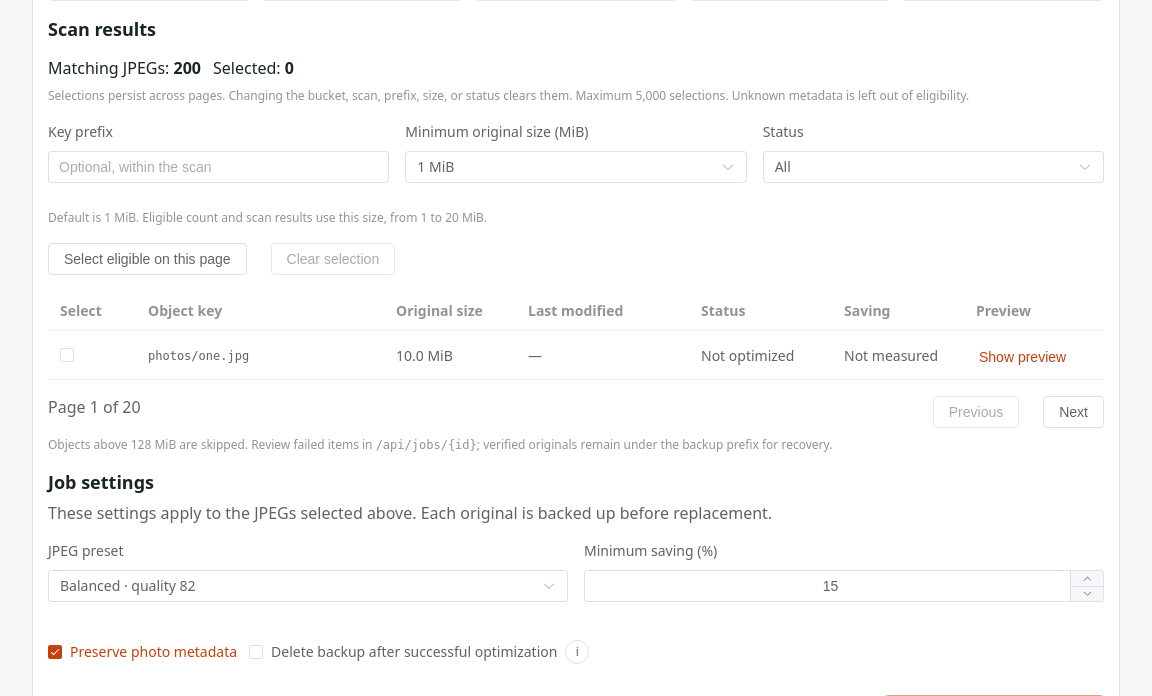
selection persists across pages and clears when filters change
(page scrolled)
Click the checkbox named "Select photos/one.jpg" at [67, 355], box [60,348,74,362]
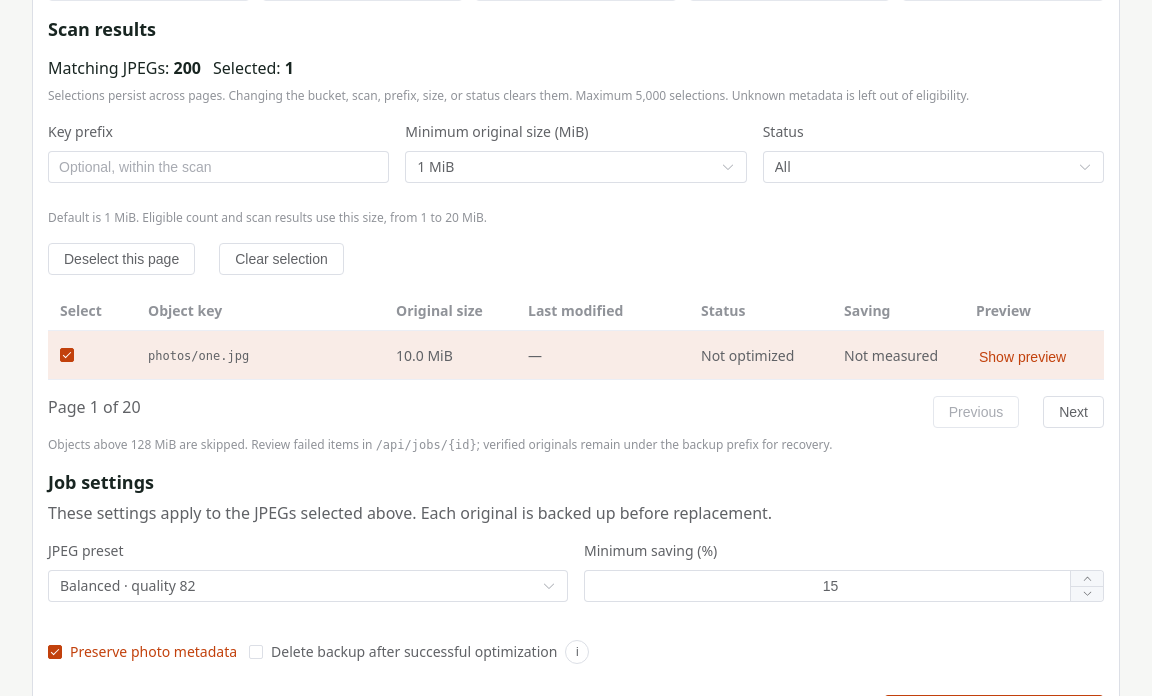
Click the button "Next" at [1074, 412], box [1043,396,1104,428]
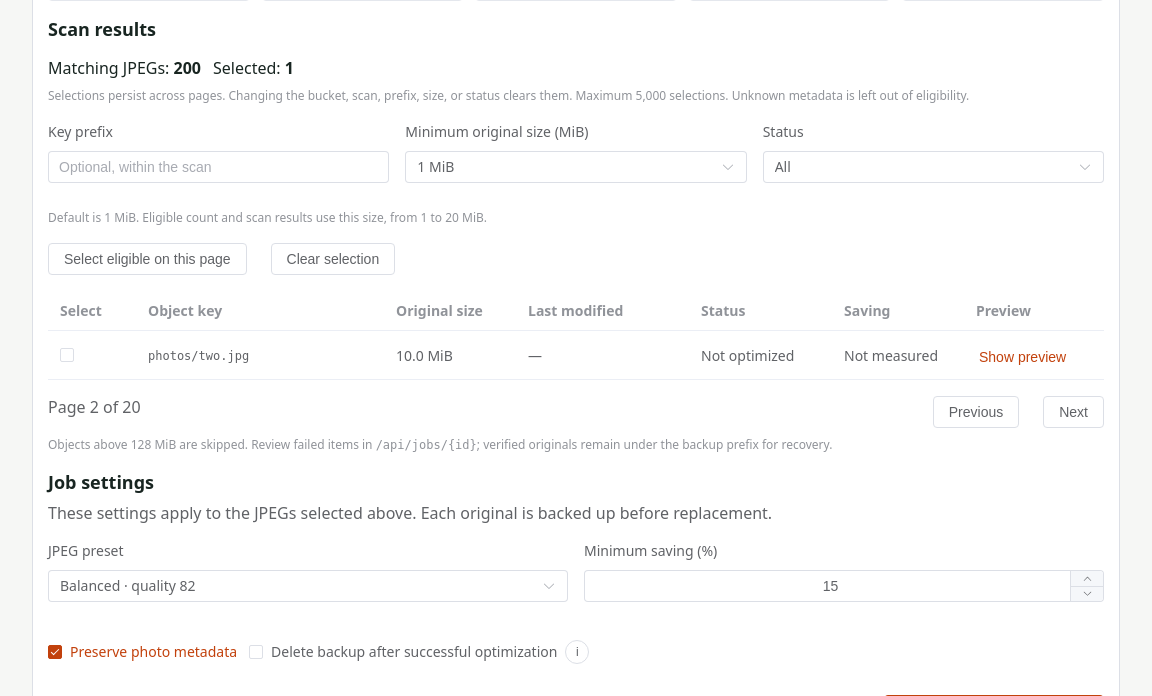
Click the checkbox named "Select photos/two.jpg" at [67, 355], box [60,348,74,362]
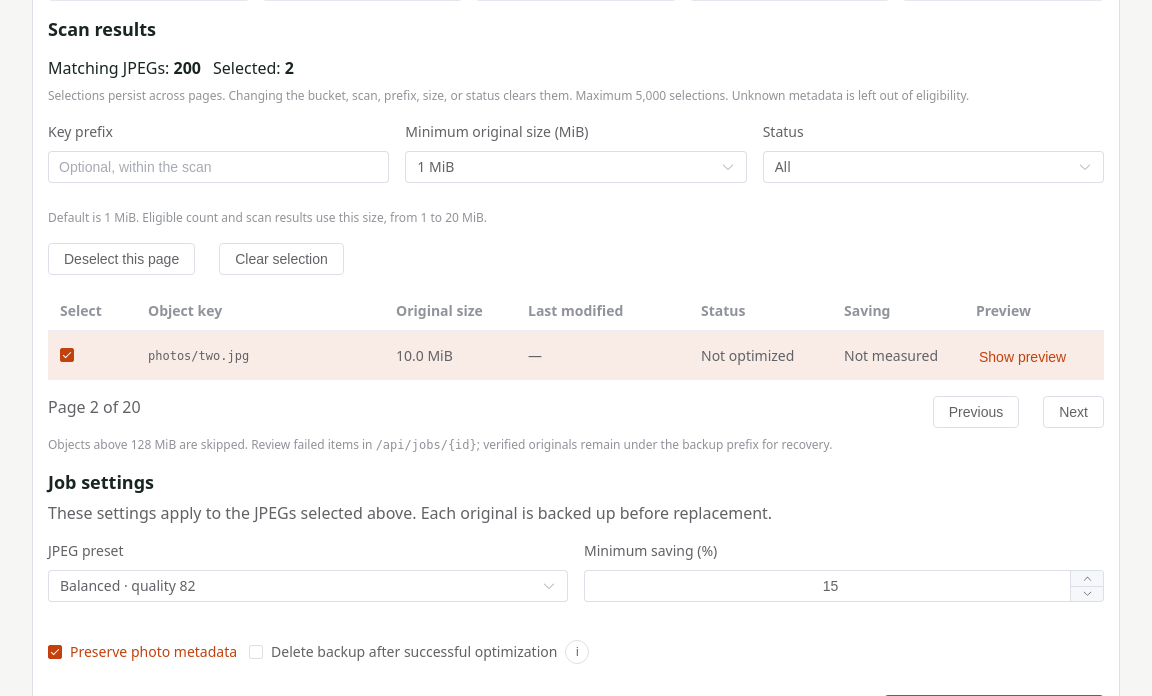
Click the button "Previous" at [976, 412], box [933,396,1019,428]
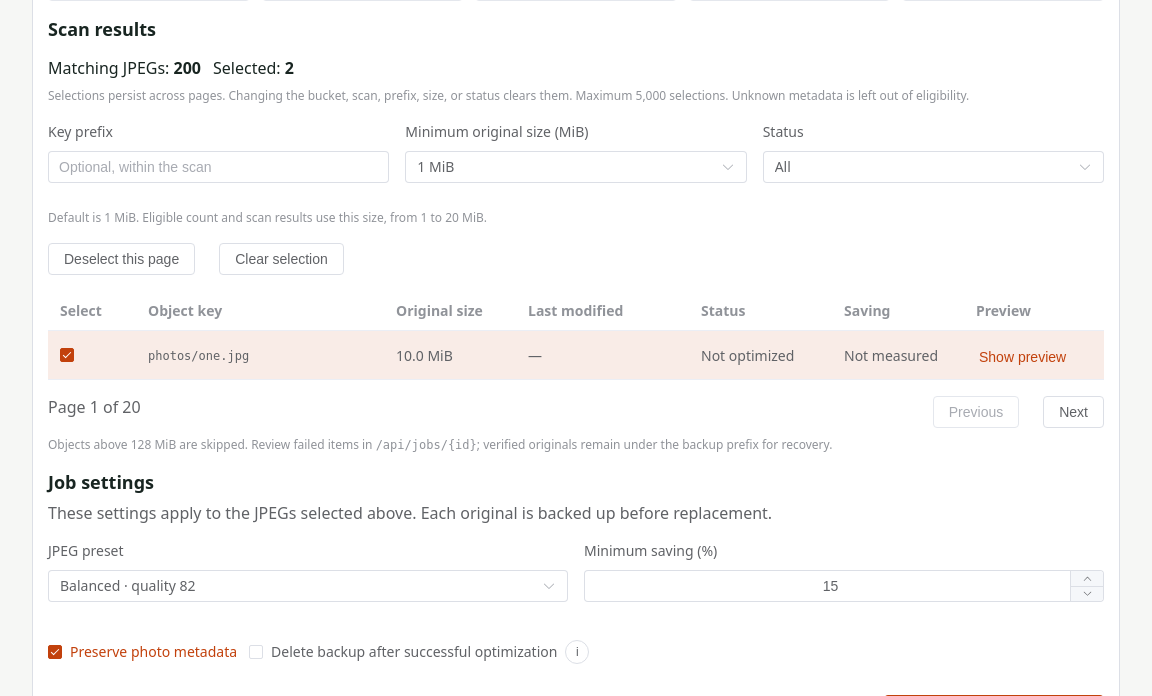
expect the checkbox named "Select photos/one.jpg" is checked: met, box [60,348,74,362]
Type "other/" into the field labelled "Key prefix" at [219, 167], box [59,152,378,182]
(page scrolled)
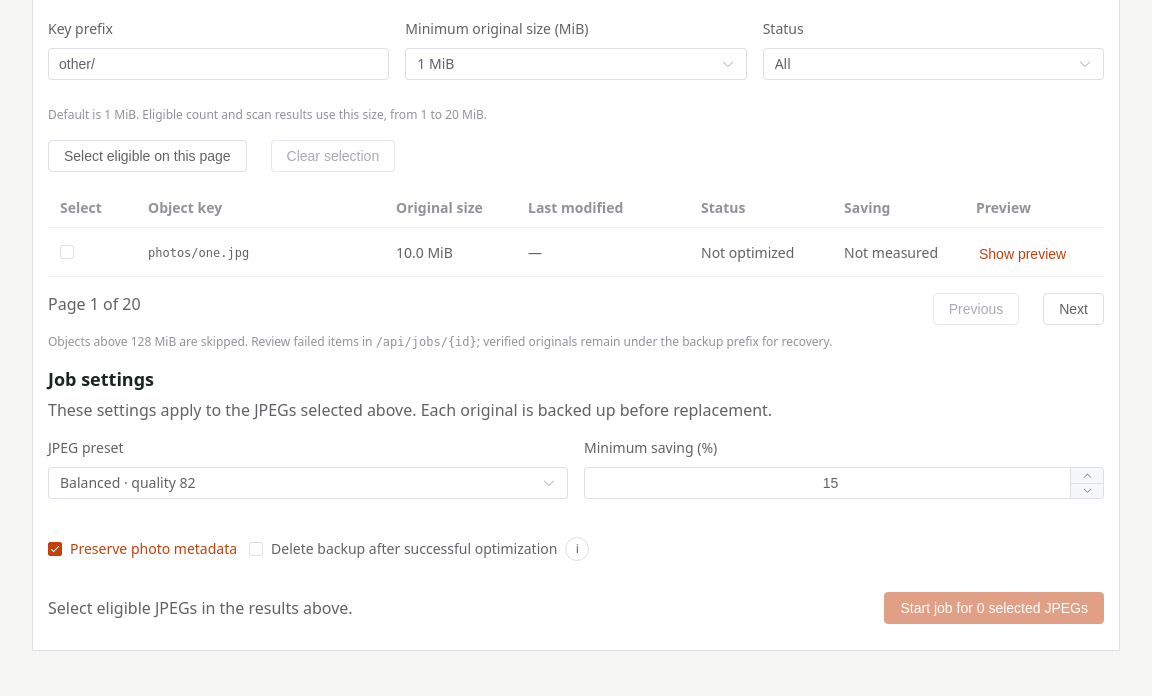
expect the button "Start job for 0 selected JPEGs" is disabled: met, box [884,592,1104,624]
